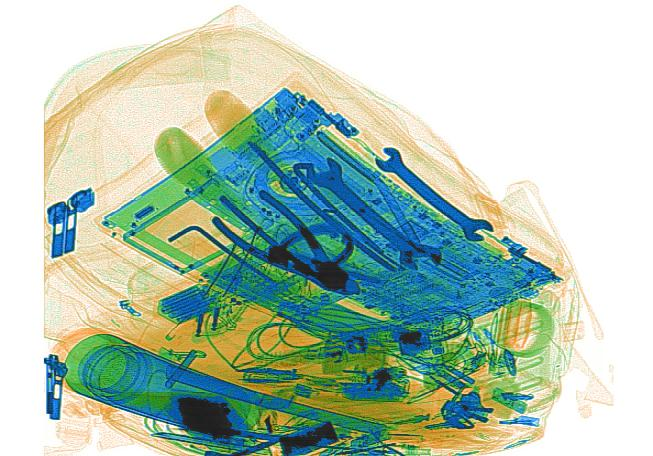USBFlashDisk: (487, 385, 527, 414)
battery: (158, 284, 214, 325)
